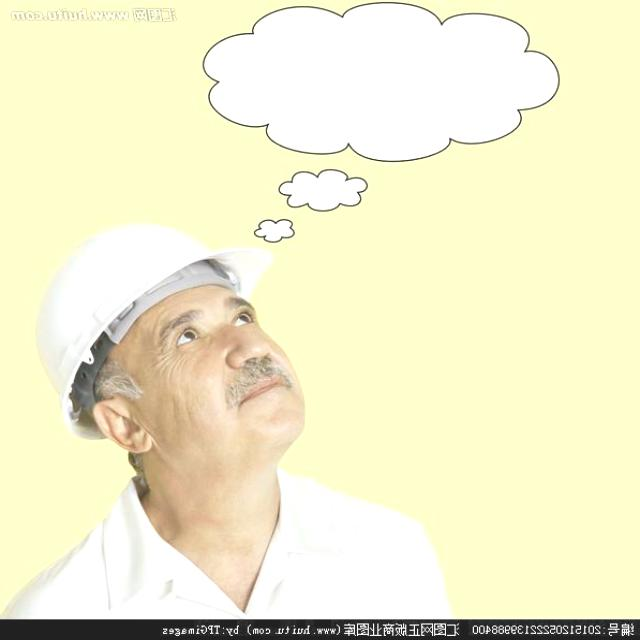face_nomask: (122, 288, 334, 486)
head_helmet: (27, 229, 267, 408)
person: (3, 210, 460, 618)
